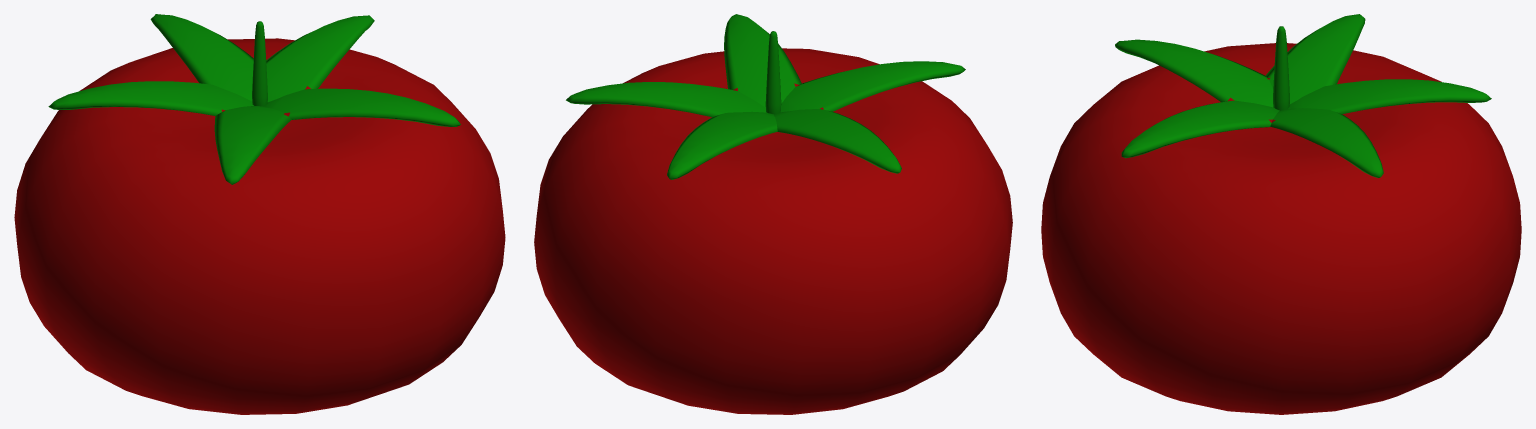
The model's file is Tomotato.fbx.
3 renders of one model, left to right at view 1: azimuth 30°, elevation 25°; view 2: azimuth 150°, elevation 25°; view 3: azimuth 270°, elevation 25°, orthographic. The views are drawn at different scales.
Parts seen in each view (by area): view 1: Tomato; view 2: Tomato; view 3: Tomato.
Part boxes in pixels (bbox=[...]): Tomato: bbox=[14, 14, 505, 414]; Tomato: bbox=[534, 14, 1012, 414]; Tomato: bbox=[1041, 14, 1521, 414].
Bounding box in the file's own units: 1.88 × 1.37 × 1.85.
